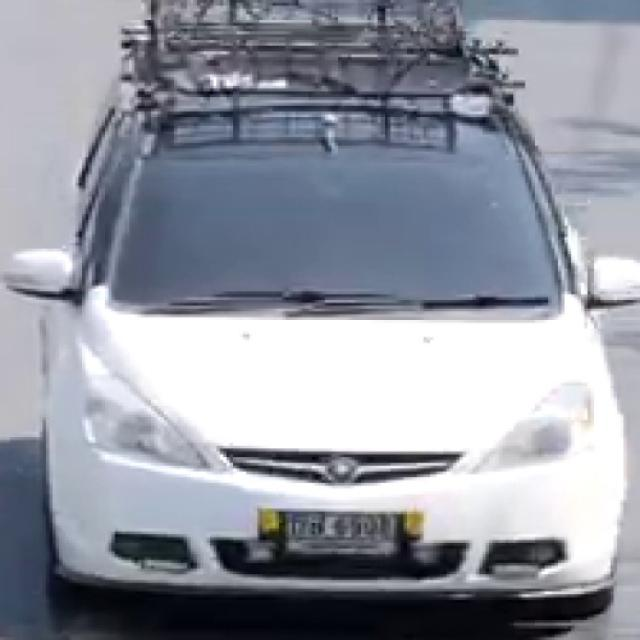plate: (259, 507, 424, 564)
